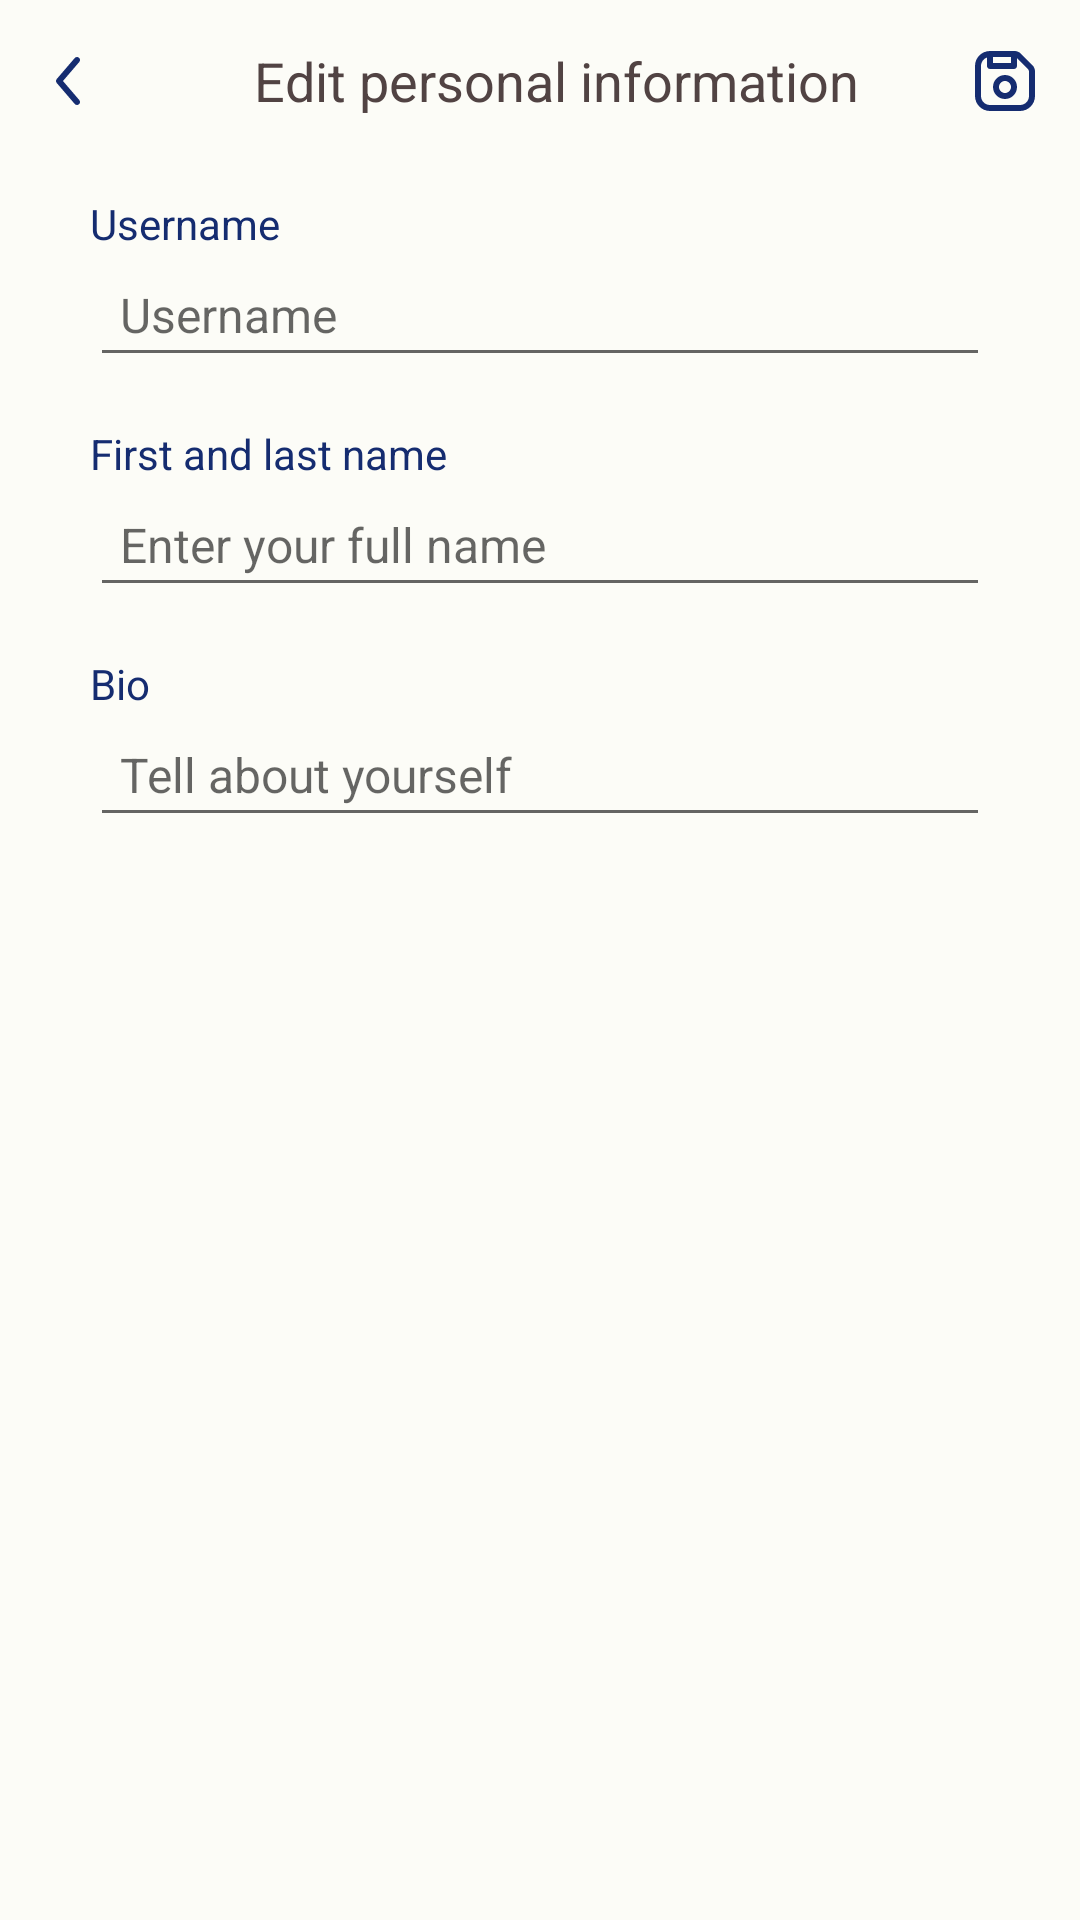

Screen size 1080px×1920px. Icon name, then its center in pixels as point (x, y):
arrow left: point (68, 81)
